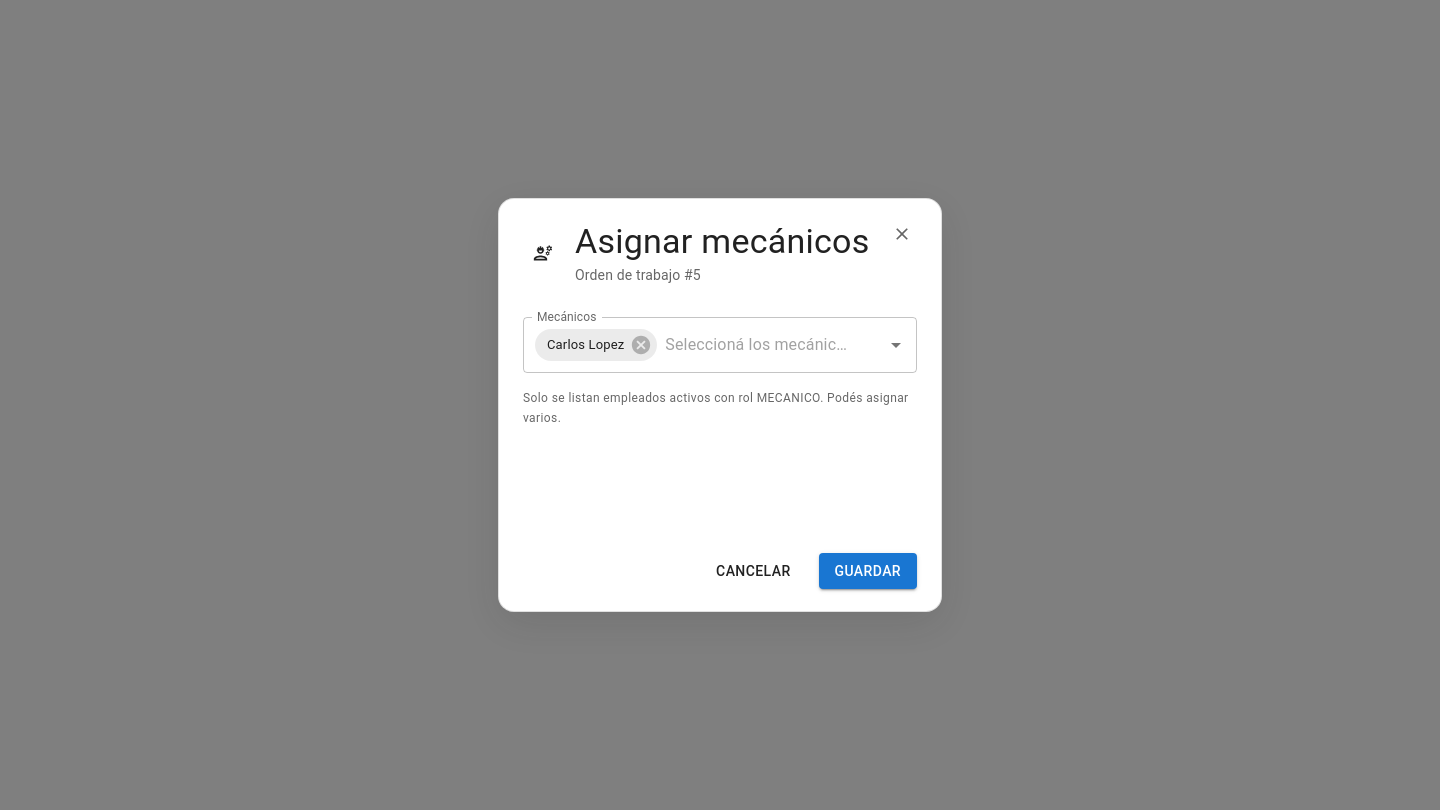
Test: AssignMechanicsDialog › given API error, when clicking guardar, then shows error and keeps dialog open
The width and height of the screenshot is (1440, 810).
Click the button "Guardar" at (868,571), box [818,553,917,589]
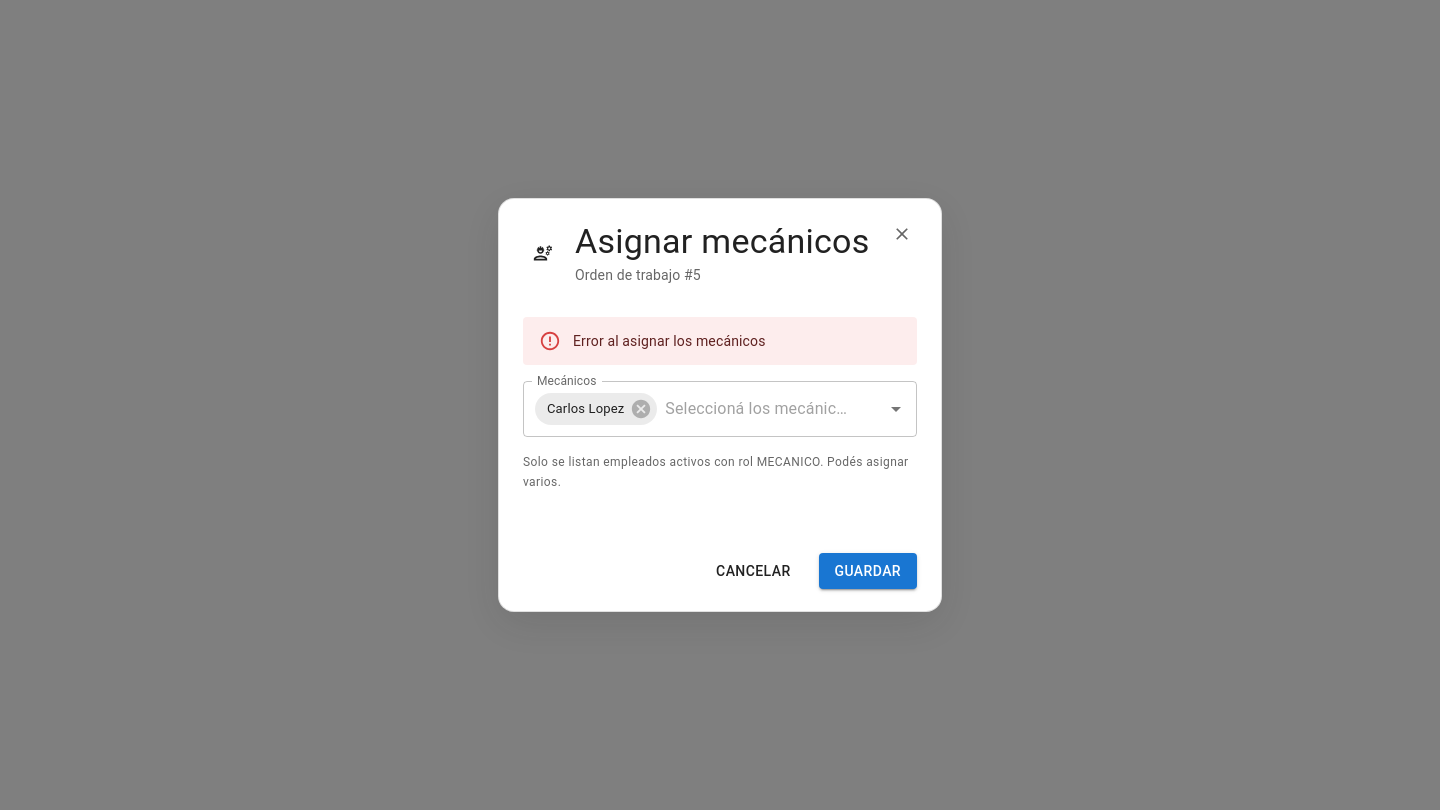
Expected: the text "Error al asignar los mecánicos" is shown, [573,333,766,349]
